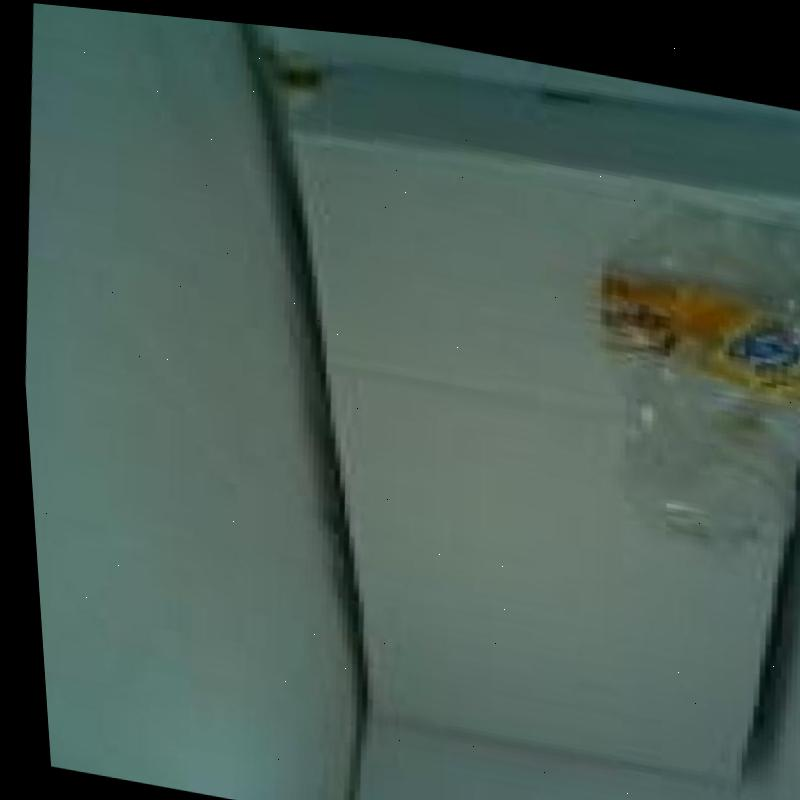botella: (565, 165, 800, 555)
